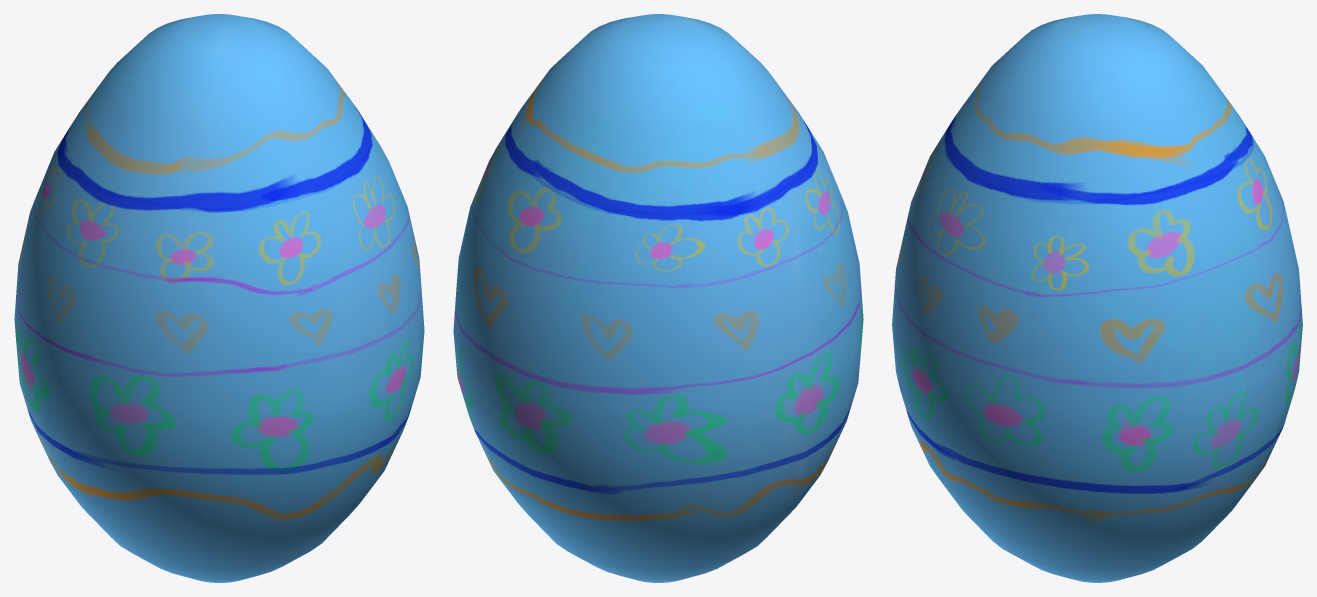
The model's file is yumurta.fbx.
The picture shows the model from 3 angles, left to right: view 1: azimuth 30°, elevation 25°; view 2: azimuth 150°, elevation 25°; view 3: azimuth 270°, elevation 25°; orthographic projection.
Visible parts, largest first — view 1: Circle_Material_001; view 2: Circle_Material_001; view 3: Circle_Material_001.
Boxes of the visible parts, x1,y1,x2,y2 form: Circle_Material_001: [14, 14, 424, 582]; Circle_Material_001: [453, 14, 863, 582]; Circle_Material_001: [892, 14, 1302, 582].
Bounding box in the file's own units: 972 × 1415 × 972.
Materials: 1 (1 with a texture image).
